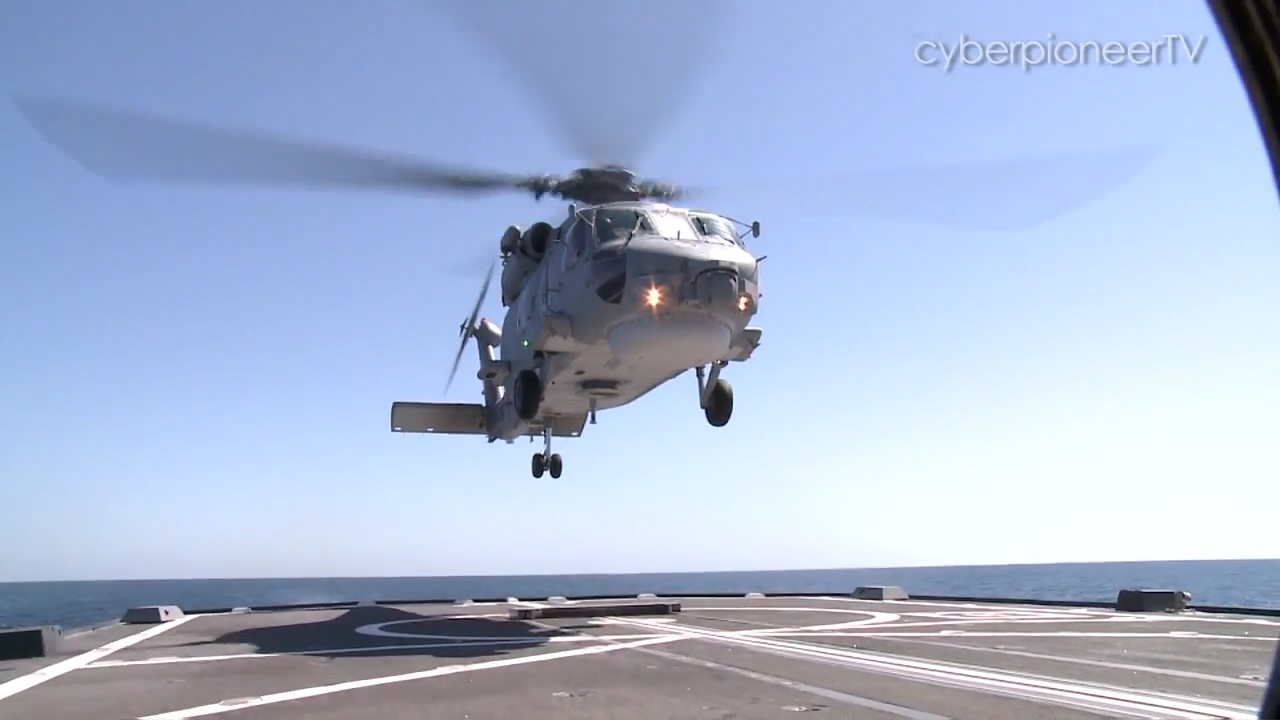seahawk: (13, 1, 1166, 483)
